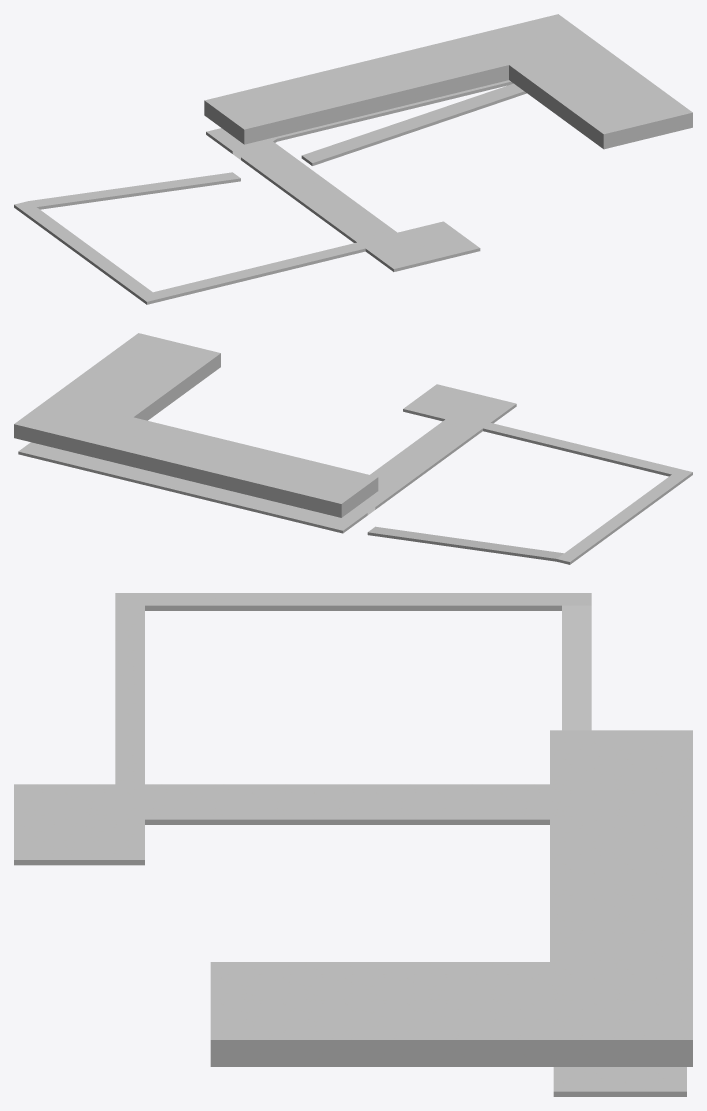
File: Concretee.fbx
3 renders of one model, top to bottom at view 1: azimuth 30°, elevation 25°; view 2: azimuth 150°, elevation 25°; view 3: azimuth 270°, elevation 25°, orthographic. The views are drawn at different scales.
Parts seen in each view (by area): view 1: Concrete; view 2: Concrete; view 3: Concrete.
Part boxes in pixels (x1,y1,x2,y2): Concrete: (14,14,692,304); Concrete: (14,333,692,564); Concrete: (14,593,692,1096).
Bounding box in the file's own units: 9950 × 900 × 5700.
